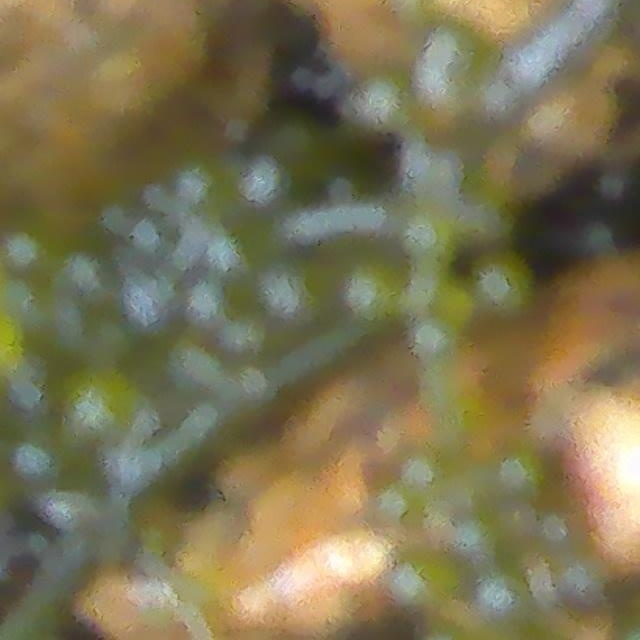SeaGrape: (72, 374, 132, 433), (388, 560, 456, 608), (476, 258, 523, 308), (403, 211, 453, 258), (348, 269, 396, 315)
